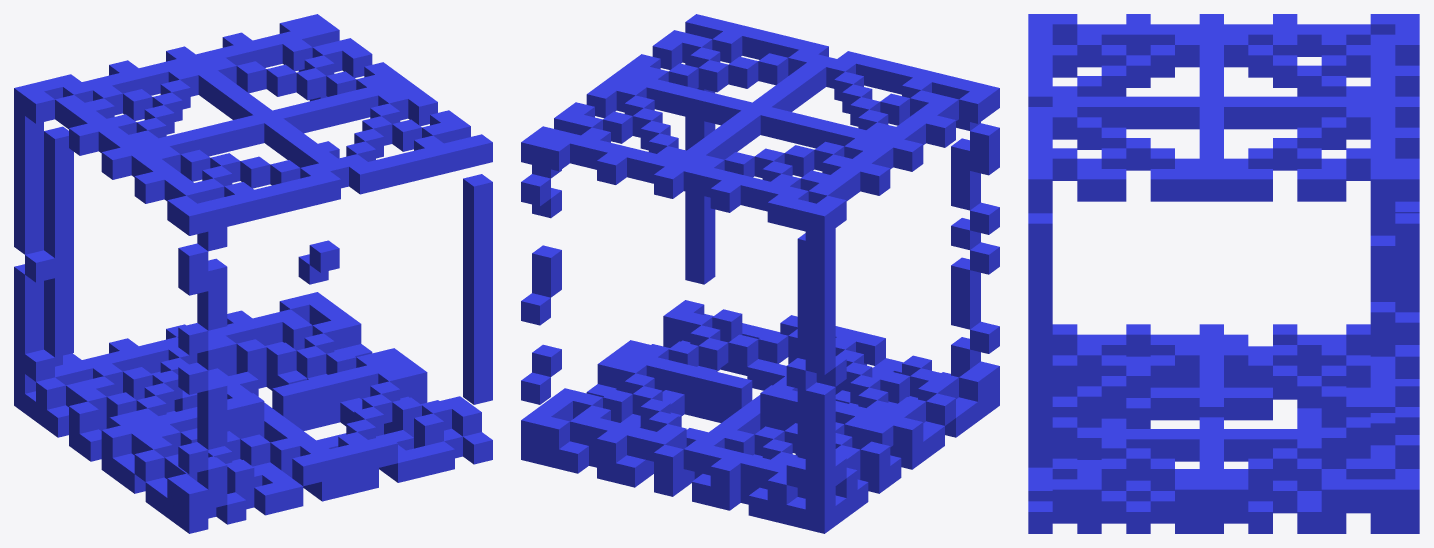
The model's file is hero.glb.
3 renders of one model, left to right at view 1: azimuth 30°, elevation 25°; view 2: azimuth 150°, elevation 25°; view 3: azimuth 270°, elevation 25°, orthographic. The views are drawn at different scales.
Parts seen in each view (by area): view 1: FFORM; view 2: FFORM; view 3: FFORM.
Boxes of the visible parts, x1,y1,x2,y2 form: FFORM: [14, 14, 492, 533]; FFORM: [521, 14, 999, 533]; FFORM: [1028, 14, 1419, 533].
Bounding box in the file's own units: 4 × 4 × 4.
